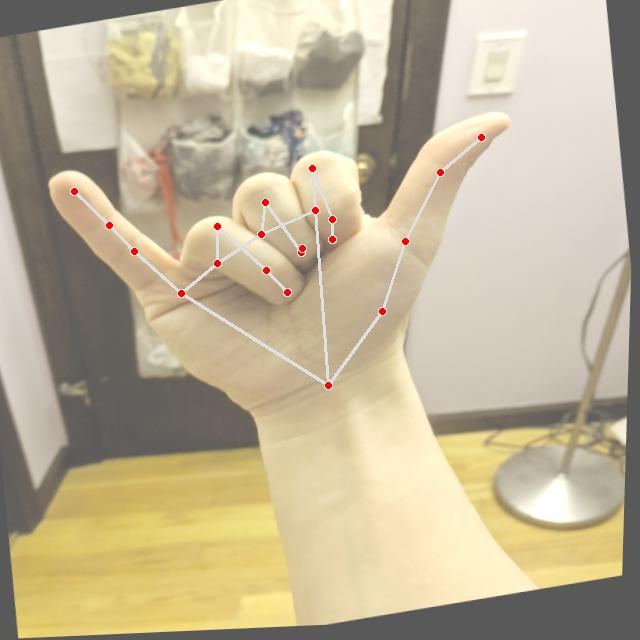Y: (34, 93, 549, 437)
